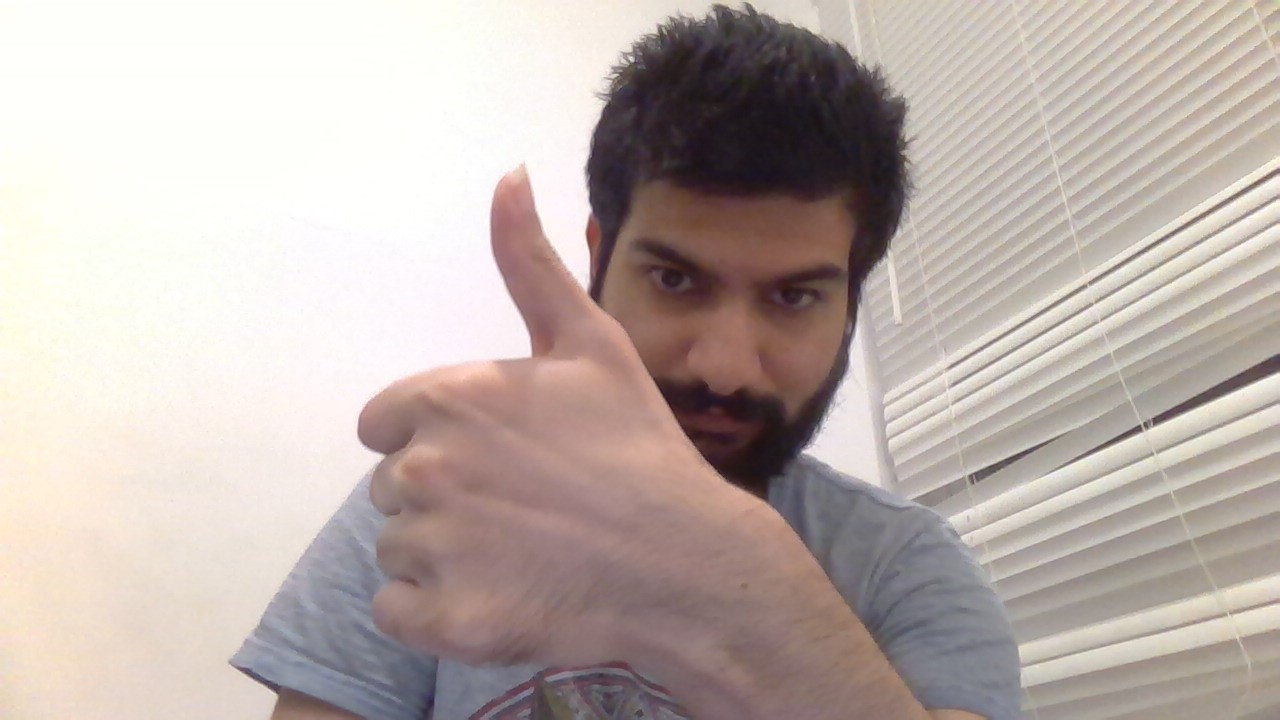up: (337, 145, 680, 672)
